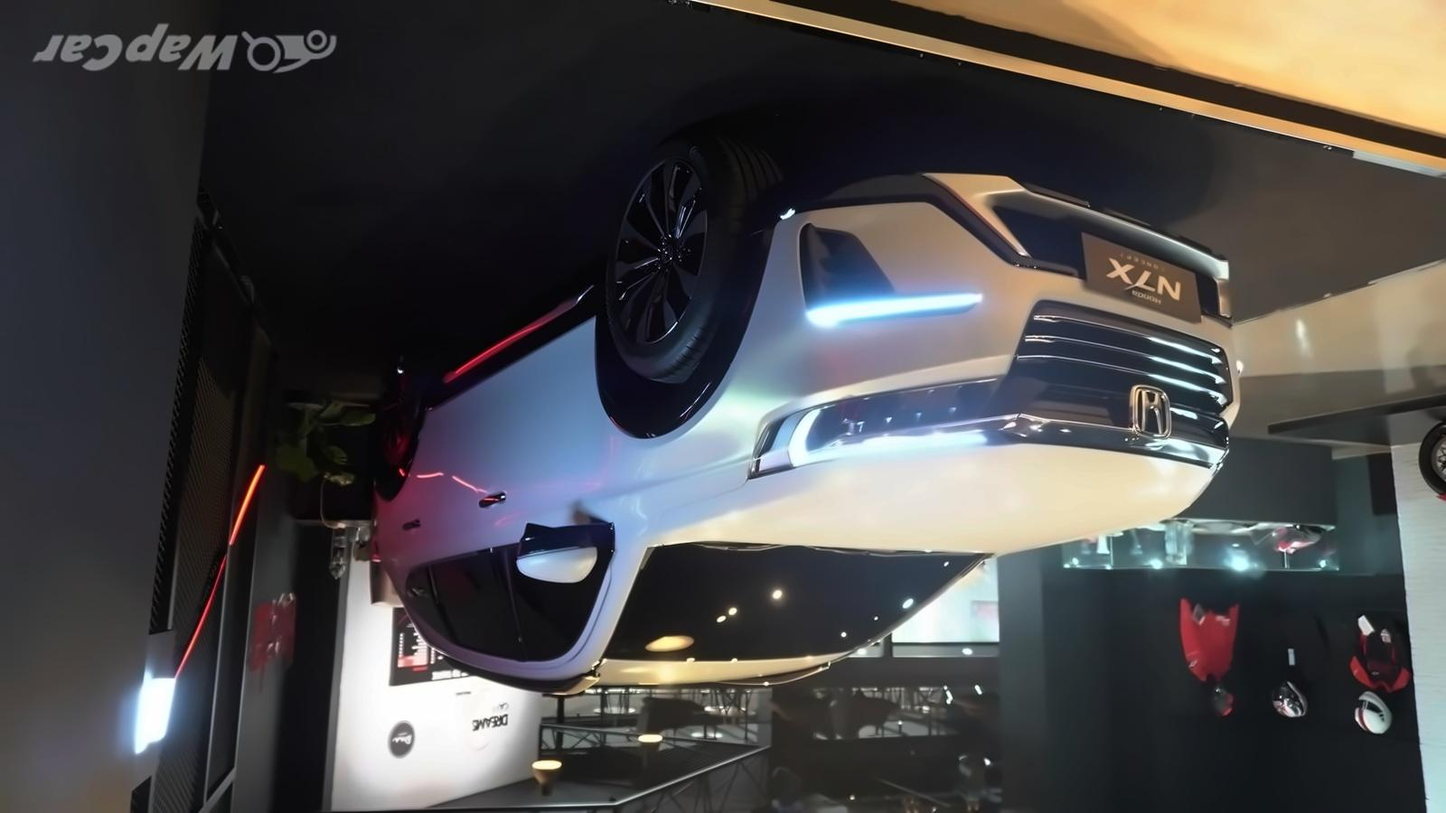Car hood: (673, 436, 1208, 566)
Fender - -F-L-: (585, 274, 790, 558)
Front bumper: (762, 169, 1243, 434)
Headlight - -L-: (753, 374, 1023, 478)
Passenger-s door - -F-L-: (469, 263, 615, 692)
Passenger-s door - -R-L-: (397, 331, 527, 672)
Side bumper - -L-: (418, 272, 616, 469)
Side mirror - -L-: (511, 531, 603, 591)
